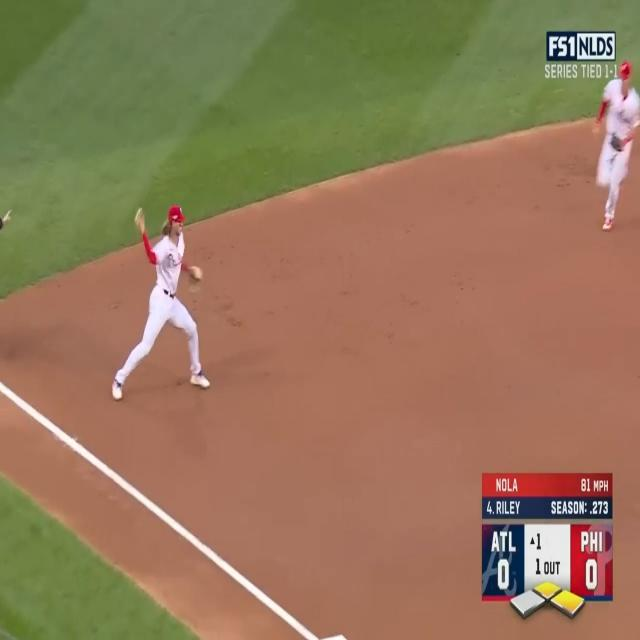baseball: (134, 206, 142, 222)
